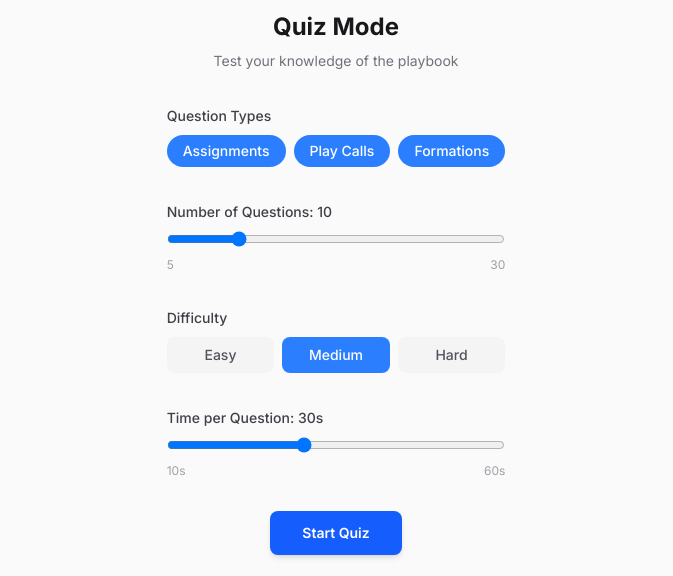
Scenario: QuizMode › transitions to playing state when Start is clicked
The width and height of the screenshot is (673, 576).
Click the button with test id "start-quiz-btn": (336, 533) [270, 511, 402, 555]
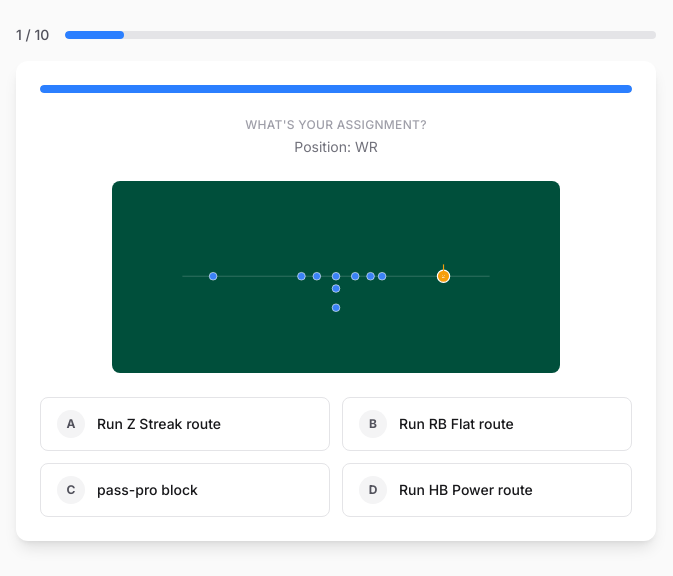
Now the text "1 / 10" is shown, box [16, 25, 49, 45]
Now the element with test id "quiz-question" is shown
